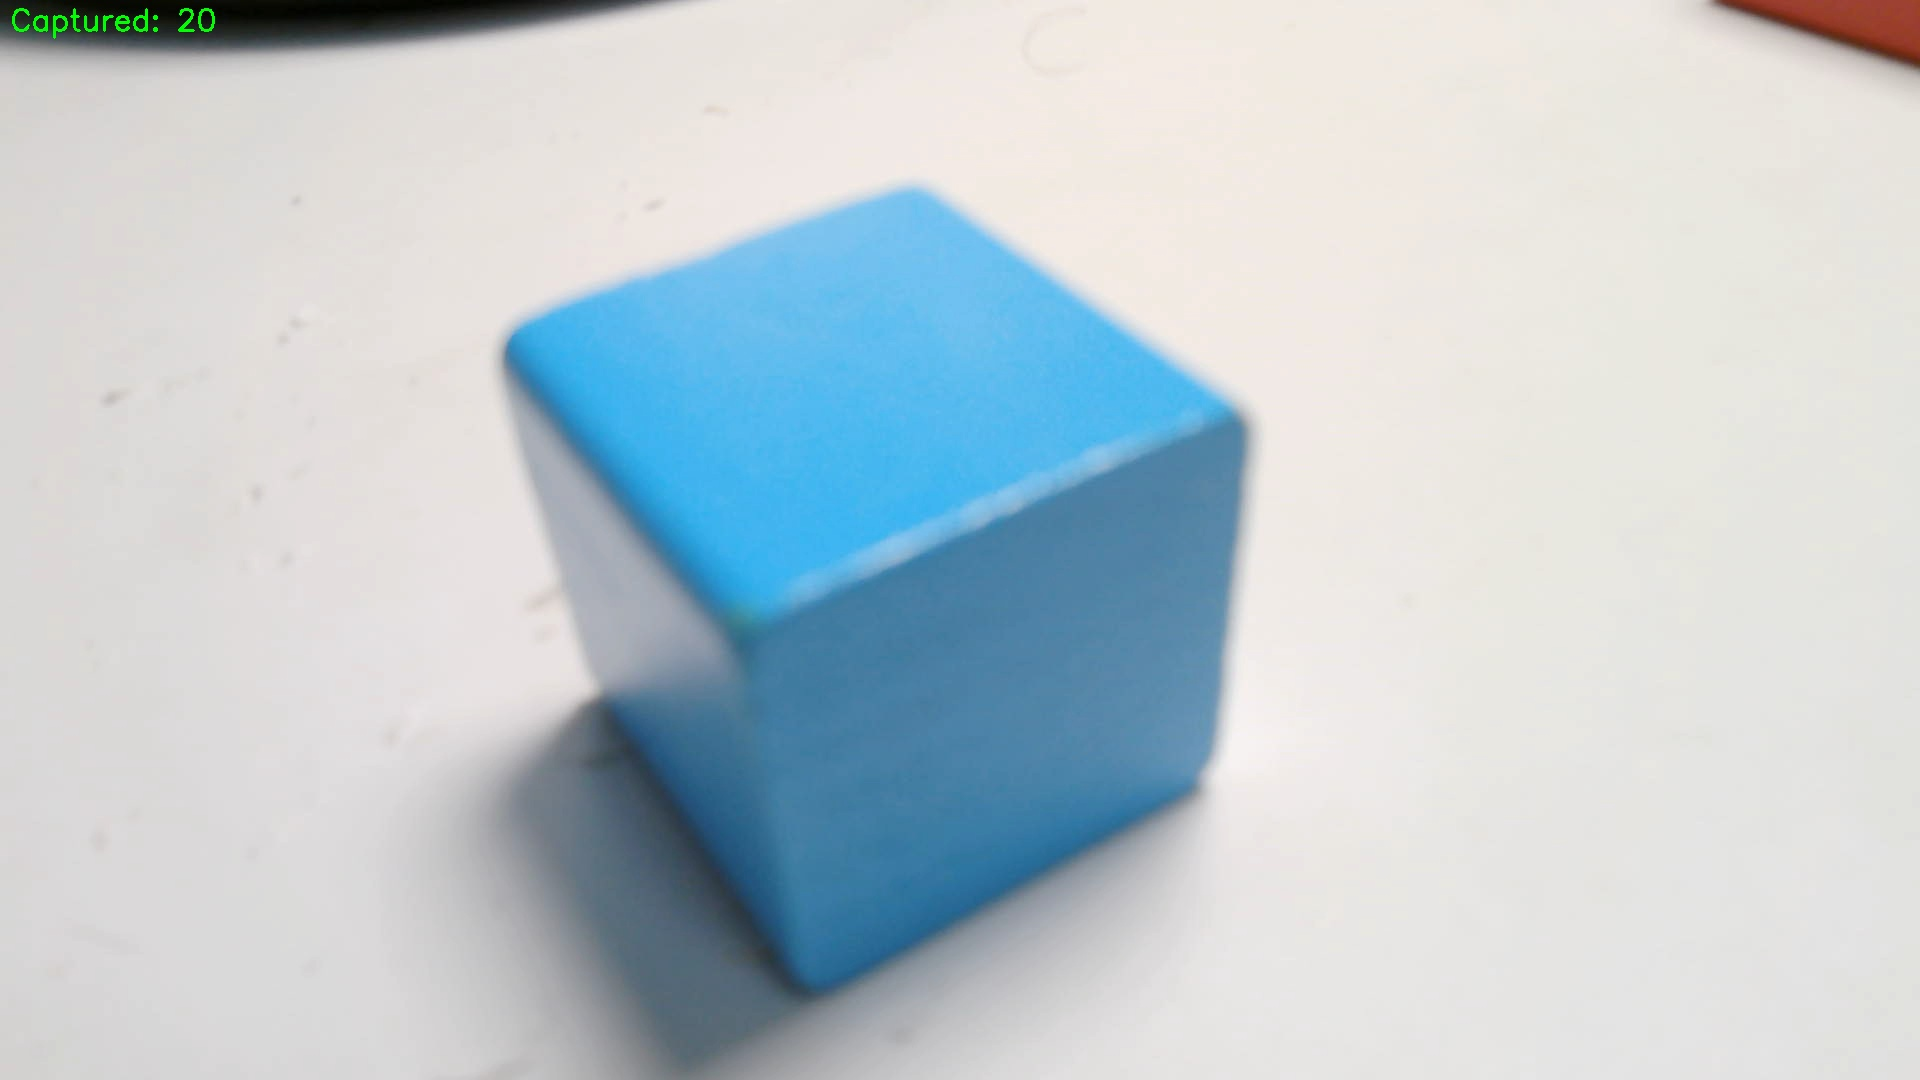blue: (512, 183, 1247, 990)
